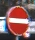No entry: (5, 5, 30, 35)
